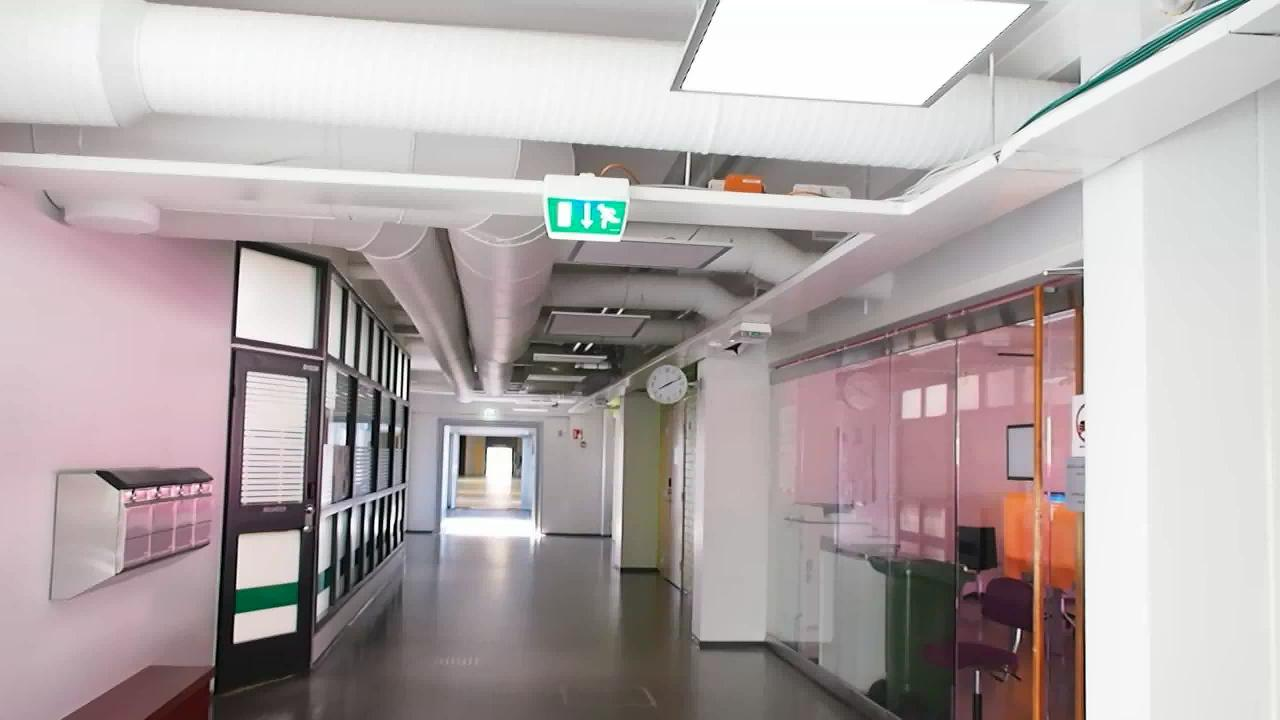exit: (547, 186, 628, 242)
